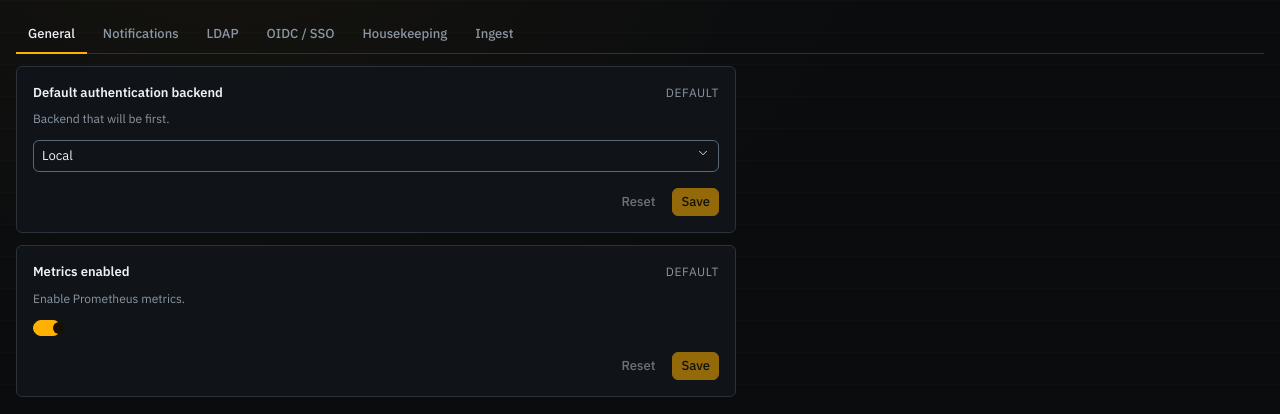
Scenario: SettingsPage › hides non-enabled OIDC cards when oidc.enabled is false
The width and height of the screenshot is (1280, 414).
Step 1. Click the tab "OIDC / SSO" → x=301, y=35, box [255,16,347,54]
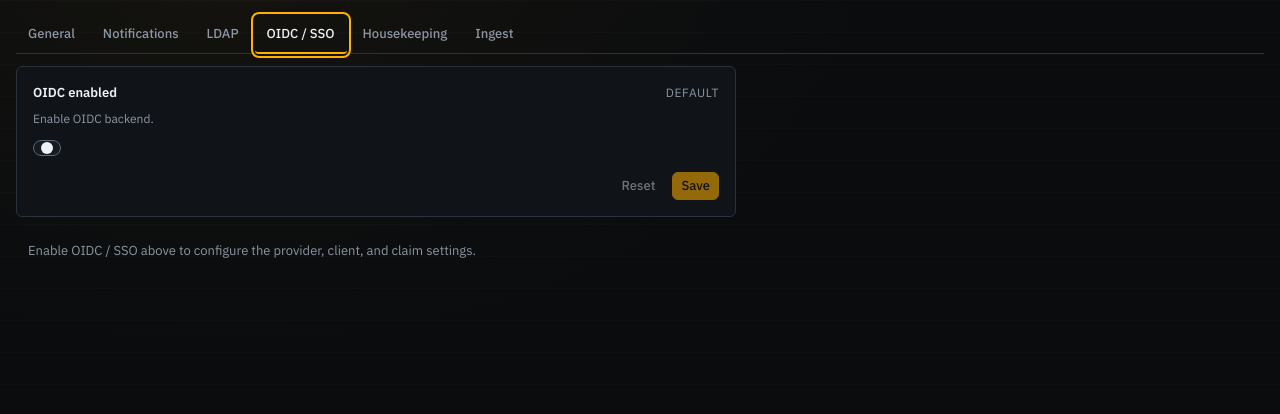
Result: the text "OIDC enabled" is shown at [33,82,117,102]
Result: the text "Enable OIDC / SSO above to configure" is shown at [28,242,476,259]
